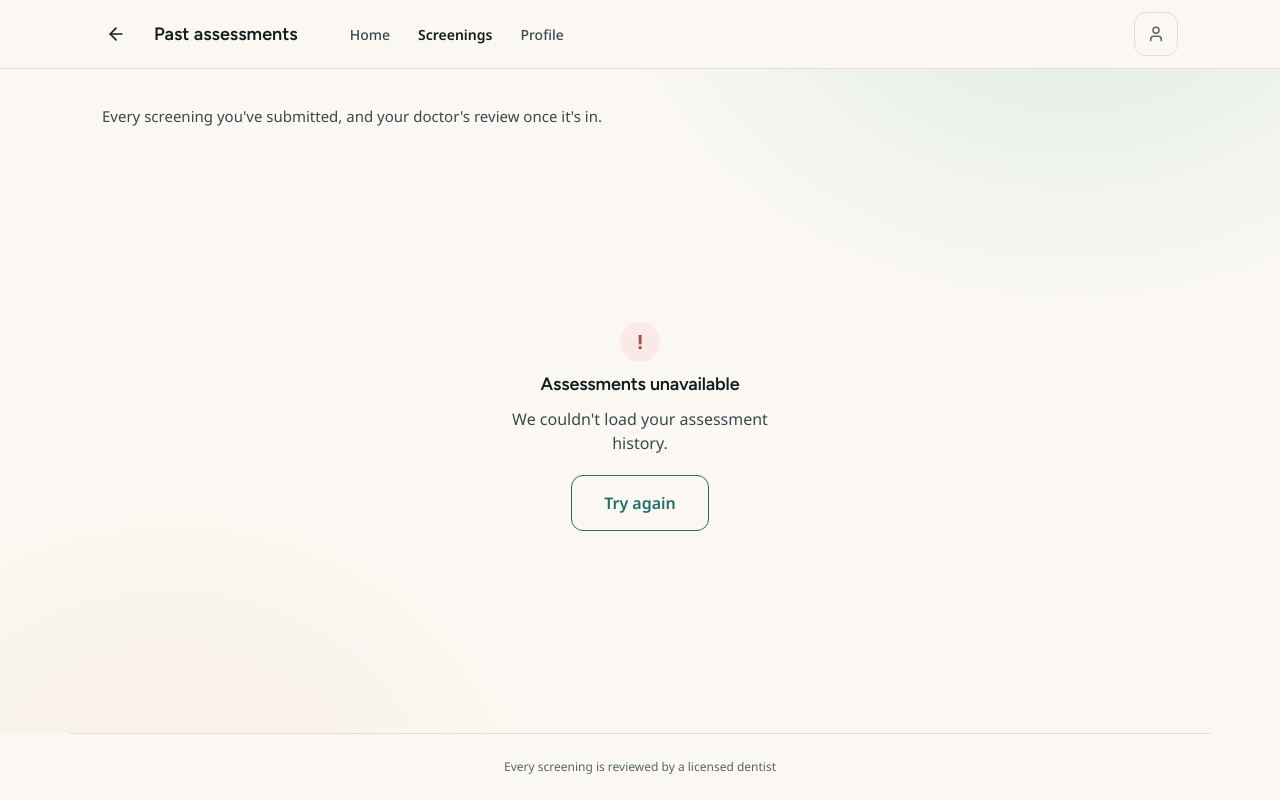
it: when the fetch fails › offers a retry that reloads the list
Expected: the heading "Assessments unavailable" is shown, [541, 374, 739, 395]
Click the button "Try again".
click(640, 503)  # box [571, 475, 709, 531]
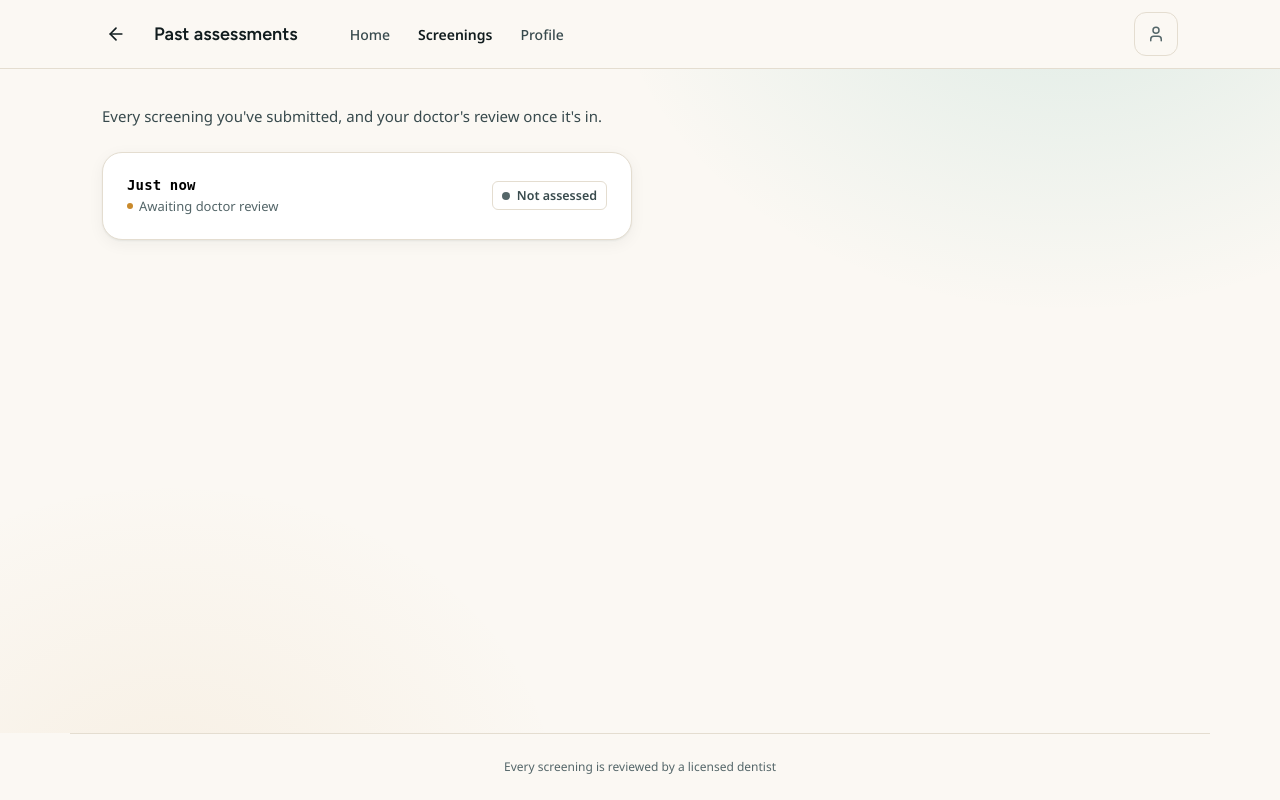
Expected: the text "Just now" is shown, [127, 176, 196, 192]
